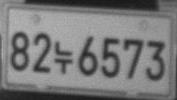2: (32, 31, 52, 73)
3: (145, 39, 166, 81)
5: (100, 37, 120, 77)
6: (77, 35, 99, 76)
7: (122, 38, 144, 79)
8: (9, 30, 30, 72)
누: (54, 41, 73, 74)
